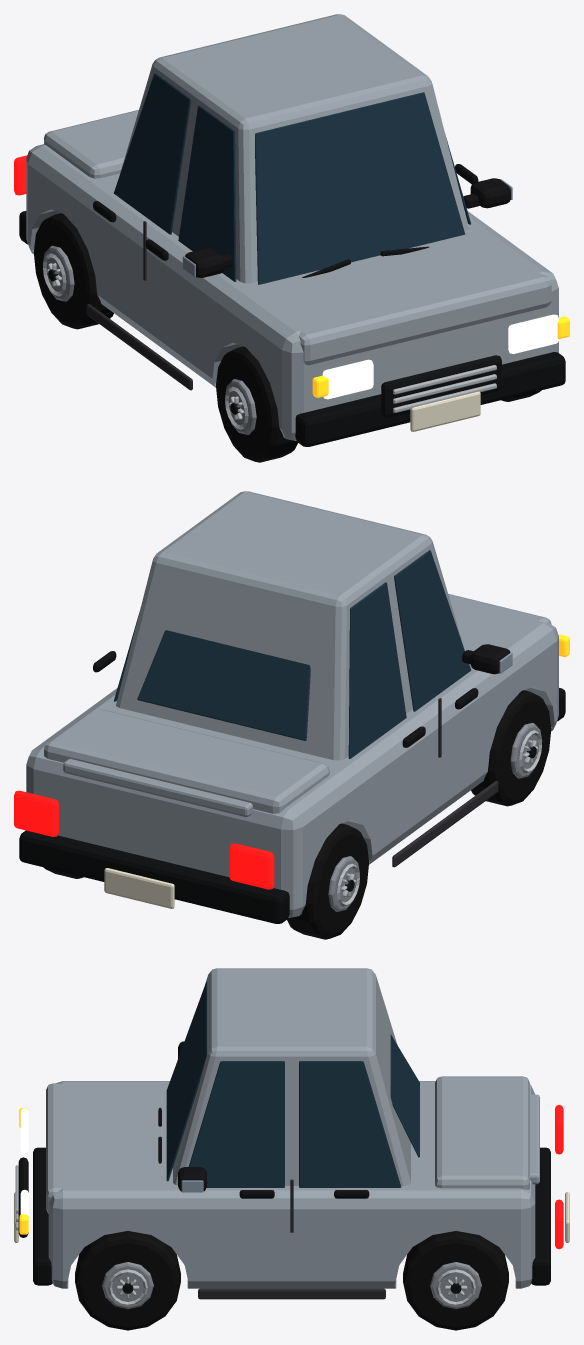
File: sedan.glb
The picture shows the model from 3 angles, top to bottom: view 1: azimuth 30°, elevation 25°; view 2: azimuth 150°, elevation 25°; view 3: azimuth 270°, elevation 25°; orthographic projection. The views are drawn at different scales.
Parts seen in each view (by area): view 1: Sedan_LowerBody, Sedan_FrontWindshield_R6, Sedan_CabinShell, Sedan_Hood, Sedan_SideWindowRear_L_R6, Sedan_SideWindowFront_L_R6, Sedan_FrontBumper, Sedan_Wheel_Front_L_R3, Sedan_Wheel_Rear_L_R3, Sedan_TrunkDeck, V03_Sedan_FrontGrille, V03_Sedan_Plate_Front (+10 smaller); view 2: Sedan_LowerBody, Sedan_CabinShell, Sedan_TrunkDeck, Sedan_RearWindow_R5, Sedan_RearBumper, Sedan_SideWindowRear_L_R6, Sedan_SideWindowFront_L_R6, Sedan_Wheel_Rear_L_R3, Sedan_Wheel_Front_L_R3, V03_Sedan_TrunkLip, V03_Sedan_Plate_Rear, V03_Sedan_TailLamp_L (+6 smaller); view 3: Sedan_LowerBody, Sedan_CabinShell, Sedan_TrunkDeck, Sedan_SideWindowRear_R_R6, Sedan_SideWindowFront_R_R6, Sedan_Wheel_Front_R_R3, Sedan_Wheel_Rear_R_R3, Sedan_FrontWindshield_R6, V03_Sedan_RockerTrim_R, Sedan_RearWindow_R5, Sedan_RearBumper, Sedan_FrontBumper (+8 smaller).
Boxes of the visible parts, x1,y1,x2,y2 form: Sedan_LowerBody: (26,144,558,440); Sedan_FrontWindshield_R6: (255,92,465,284); Sedan_CabinShell: (120,14,469,283); Sedan_Hood: (299,234,551,365); Sedan_SideWindowRear_L_R6: (113,73,190,234); Sedan_SideWindowFront_L_R6: (178,105,236,281); Sedan_FrontBumper: (295,352,565,446); Sedan_Wheel_Front_L_R3: (216,346,297,462); Sedan_Wheel_Rear_L_R3: (33,213,113,329); Sedan_TrunkDeck: (44,110,138,178); V03_Sedan_FrontGrille: (381,355,501,417); V03_Sedan_Plate_Front: (410,391,480,431); Sedan_LowerBody: (26,600,558,917); Sedan_CabinShell: (116,491,464,760); Sedan_TrunkDeck: (44,708,329,813); Sedan_RearWindow_R5: (137,630,310,740); Sedan_RearBumper: (19,830,289,923); Sedan_SideWindowRear_L_R6: (348,582,406,758); Sedan_SideWindowFront_L_R6: (394,550,471,711); Sedan_Wheel_Rear_L_R3: (287,823,369,939); Sedan_Wheel_Front_L_R3: (471,690,551,806); V03_Sedan_TrunkLip: (63,759,252,816); V03_Sedan_Plate_Rear: (104,868,174,908); V03_Sedan_TailLamp_L: (229,843,274,889); Sedan_LowerBody: (48,1081,535,1288); Sedan_CabinShell: (173,968,410,1185); Sedan_TrunkDeck: (435,1076,529,1189); Sedan_SideWindowRear_R_R6: (299,1061,401,1187); Sedan_SideWindowFront_R_R6: (188,1061,284,1187); Sedan_Wheel_Front_R_R3: (75,1231,180,1330); Sedan_Wheel_Rear_R_R3: (403,1231,508,1330); Sedan_FrontWindshield_R6: (166,981,206,1181); V03_Sedan_RockerTrim_R: (198,1288,385,1299); Sedan_RearWindow_R5: (390,1034,419,1157); Sedan_RearBumper: (531,1147,550,1285); Sedan_FrontBumper: (33,1147,52,1285).
Bounding box in the file's own units: 1.66 × 1.46 × 2.79.
